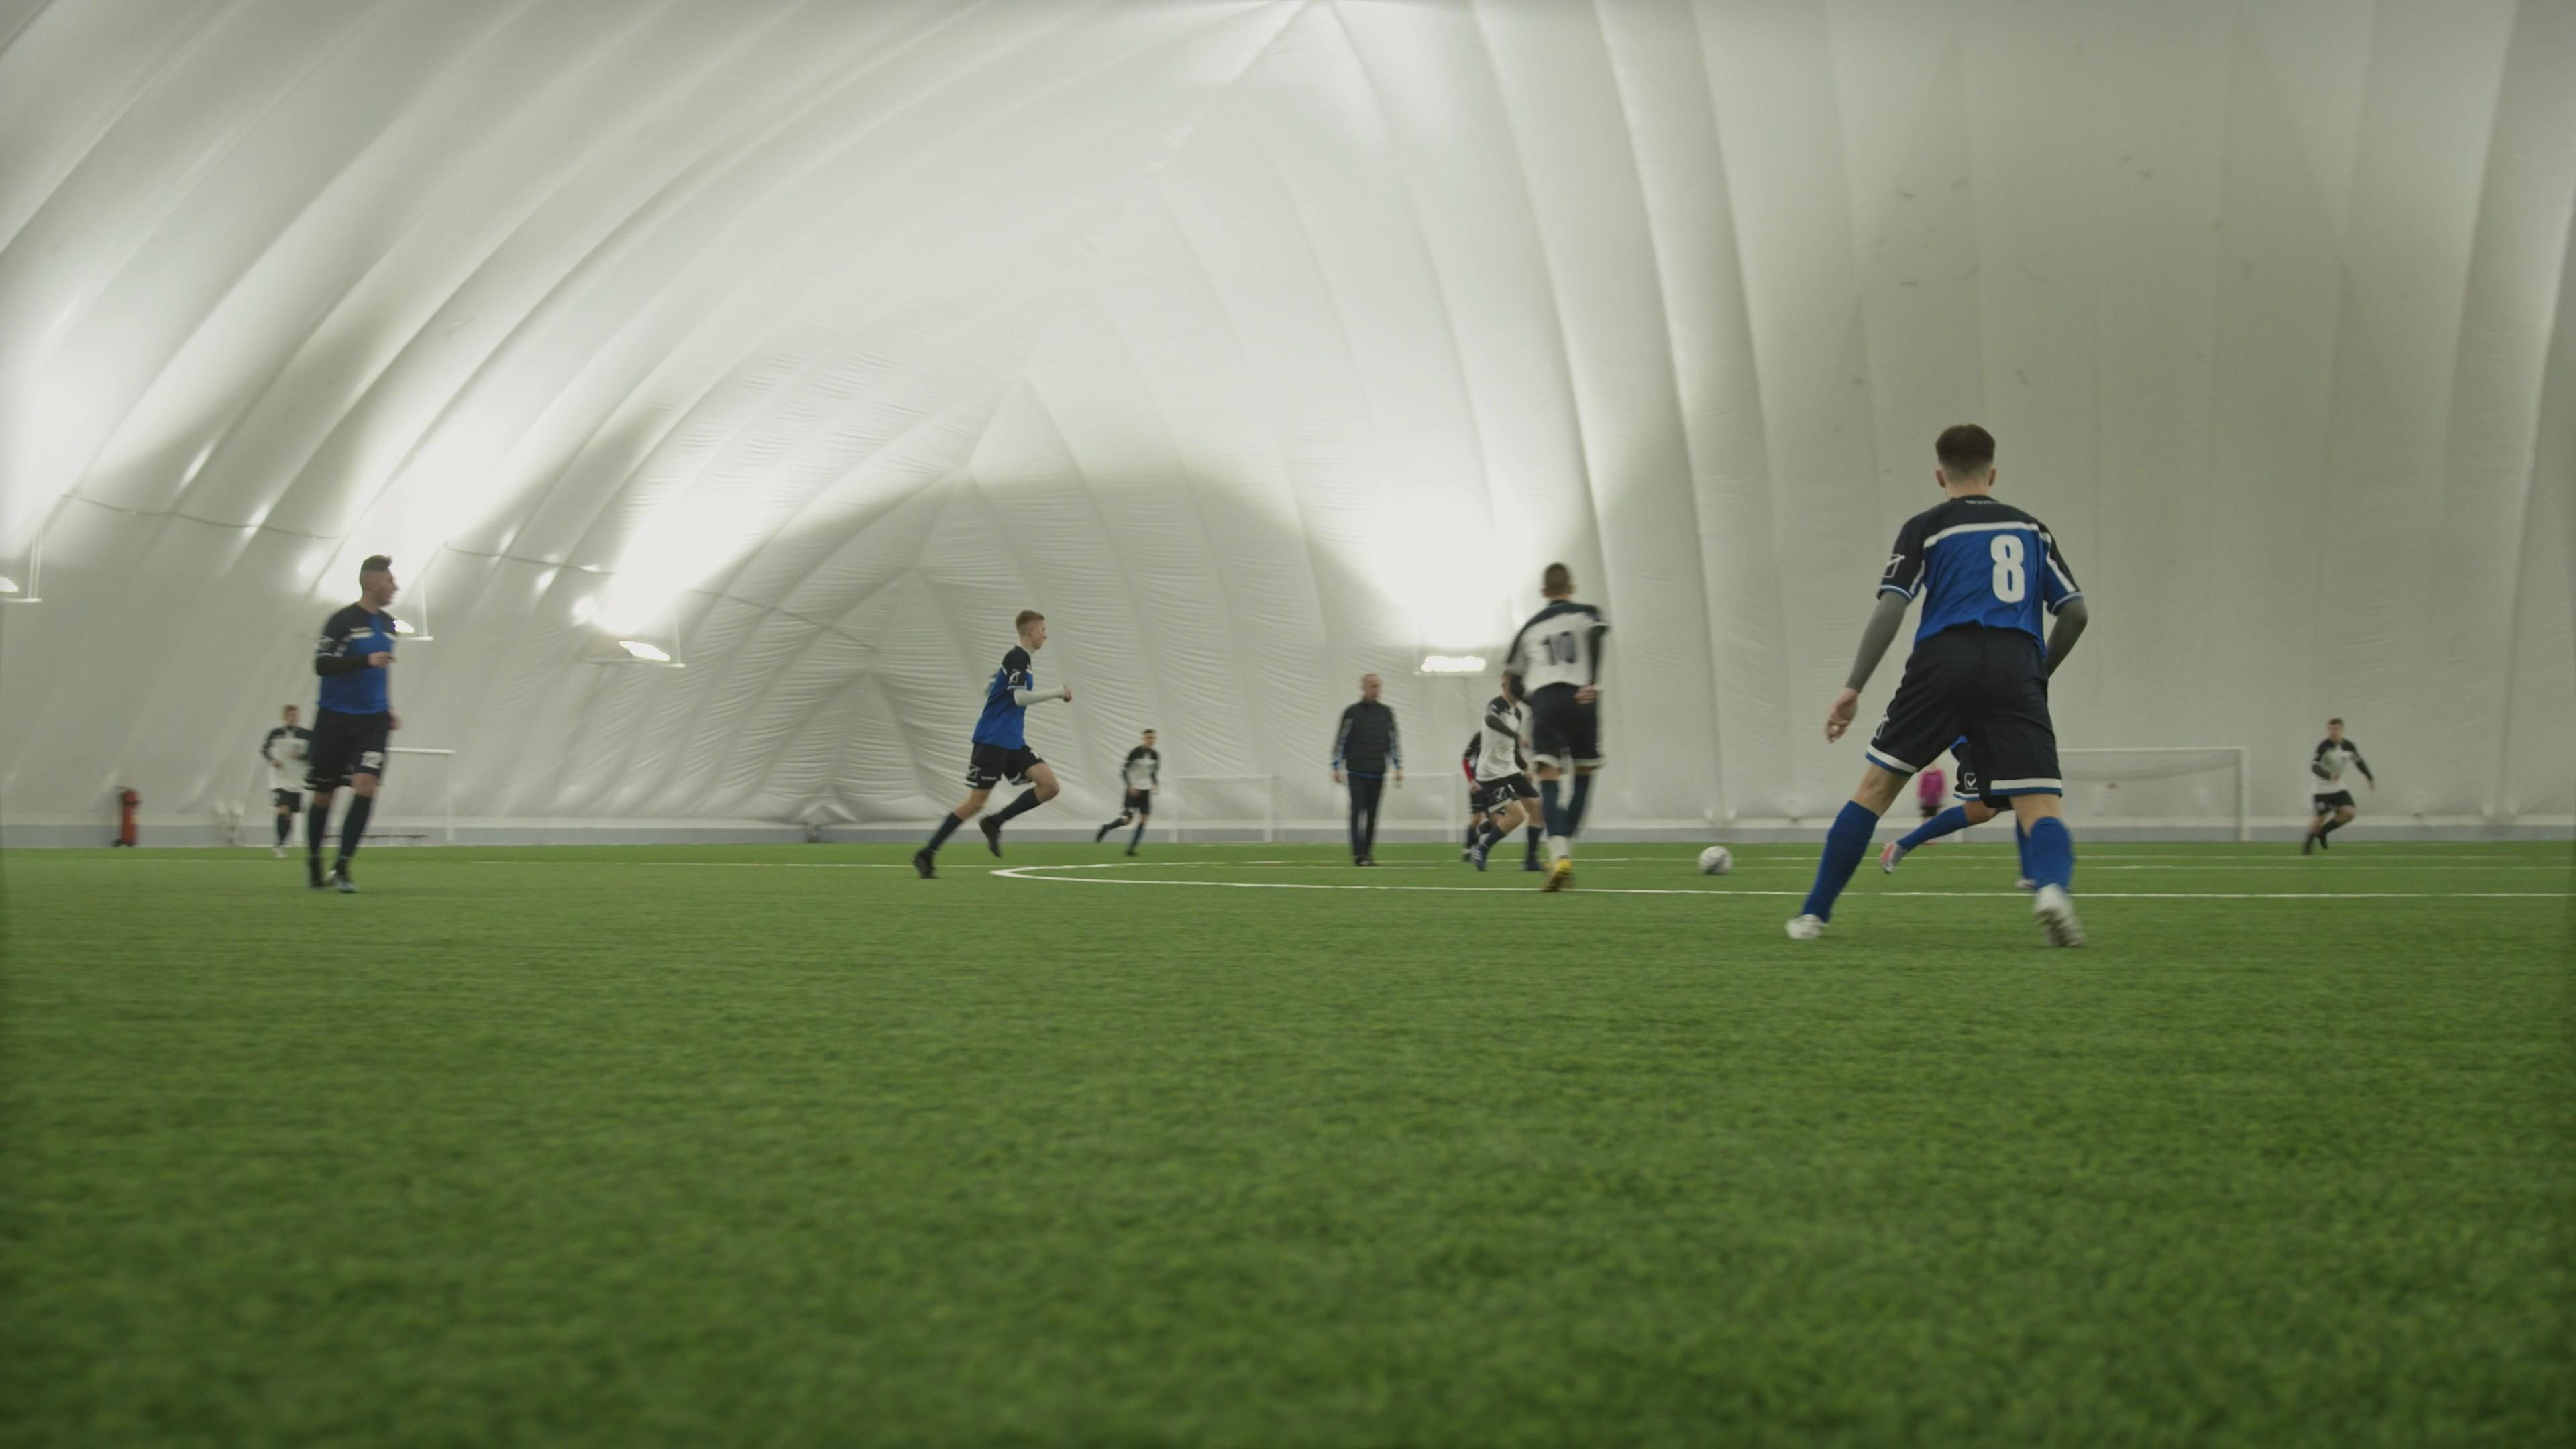other: (1330, 671, 1401, 863)
team1: (1783, 419, 2093, 950), (909, 610, 1067, 881), (301, 554, 409, 892)
team2: (1497, 564, 1608, 890), (1460, 681, 1539, 872), (2302, 715, 2378, 862), (1097, 725, 1161, 856), (257, 702, 308, 847)
